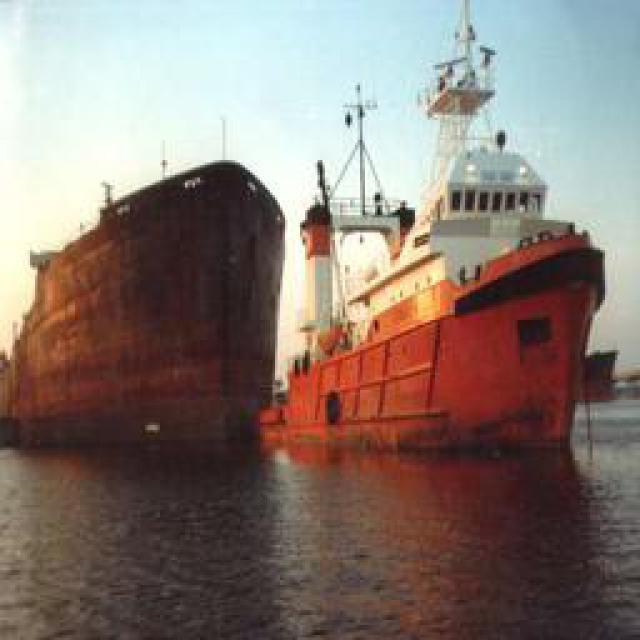Ship: (273, 7, 608, 455), (10, 146, 287, 466)
